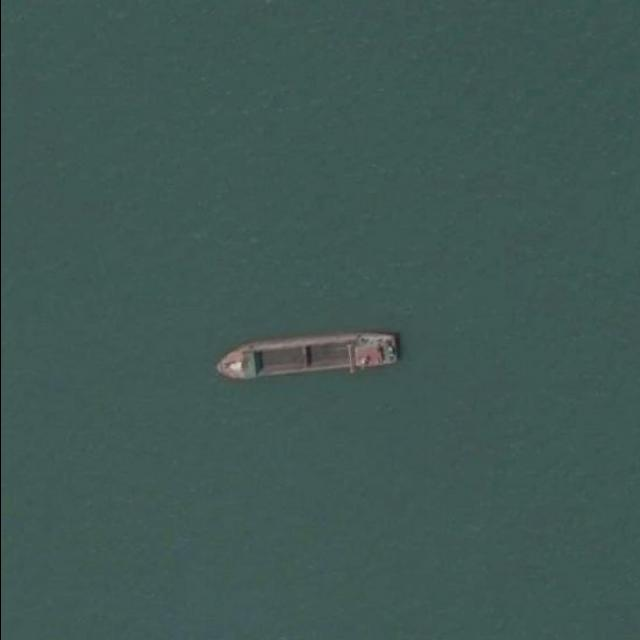ship: (214, 326, 398, 384)
